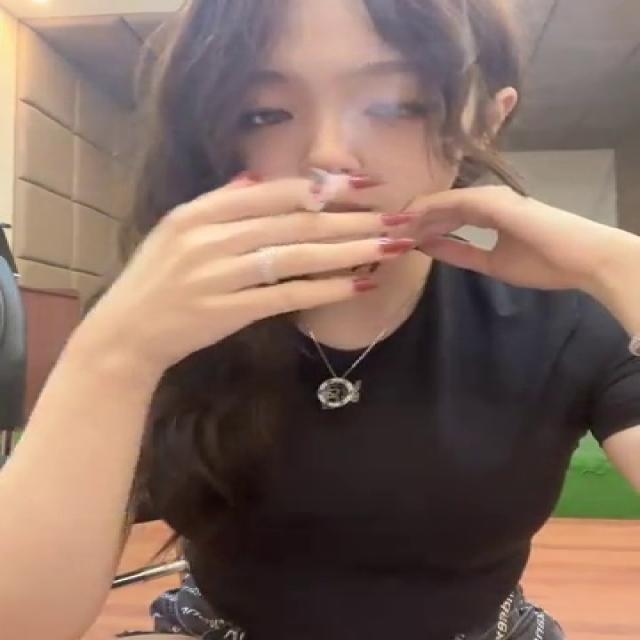Cigarette: (302, 176, 329, 212)
Hand: (102, 174, 418, 338)
Mouth: (284, 195, 384, 221)
